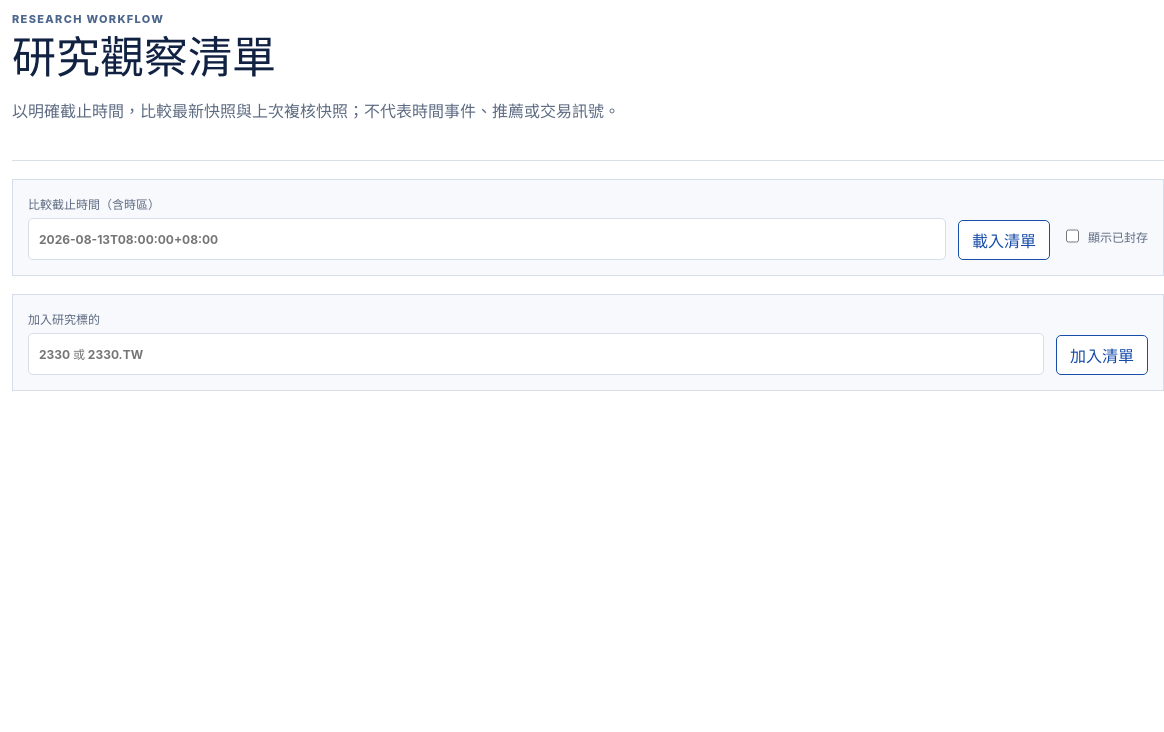
it: Research Queue › renders null and stale as separate neutral workflow facts
In the field labelled "比較截止時間（含時區）": (487, 239) [28, 218, 946, 260], type "2026-08-13T00:00:00Z"
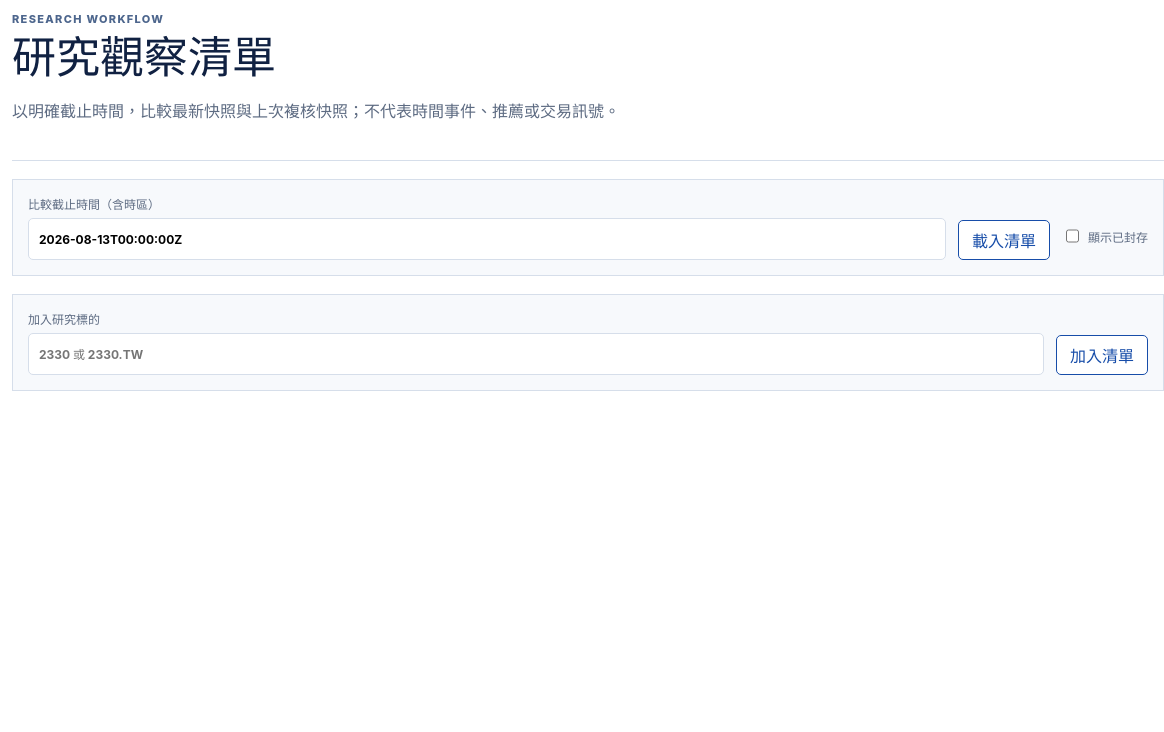
Click the button "載入清單": (1004, 240) [958, 220, 1050, 260]
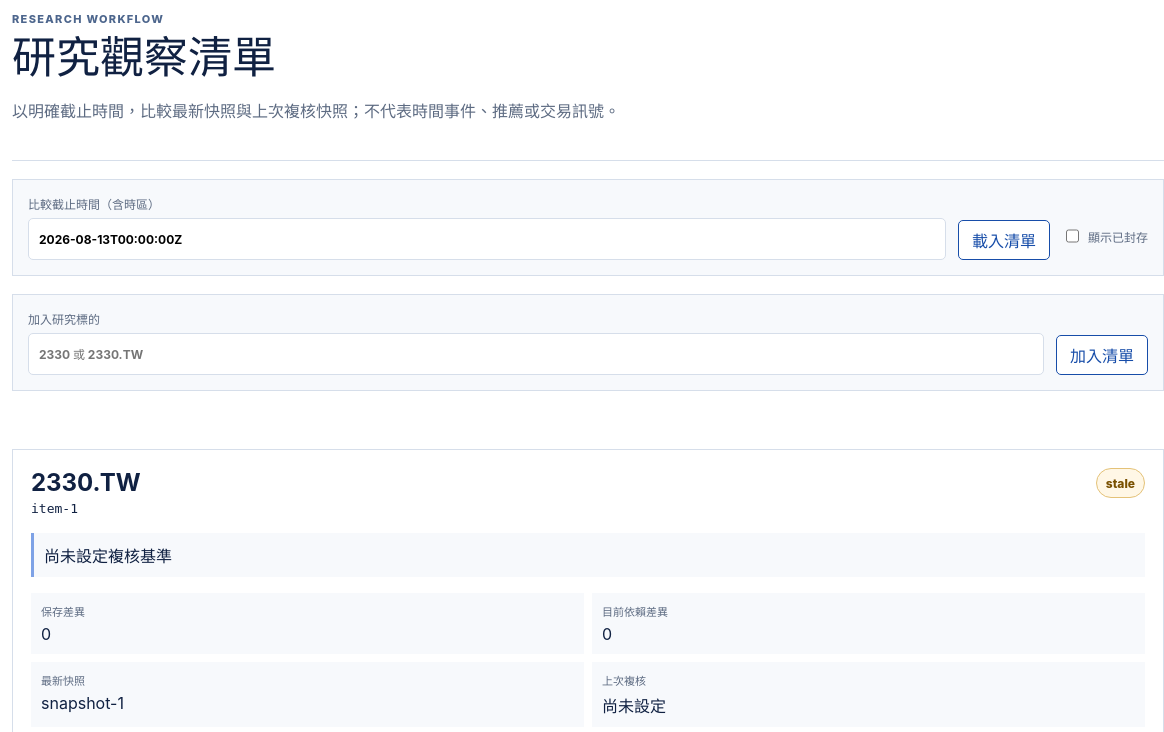
Expected: the text "尚未設定複核基準" is shown, [31, 533, 1145, 577]
Expected: the text "stale" is shown, [1096, 468, 1145, 498]
